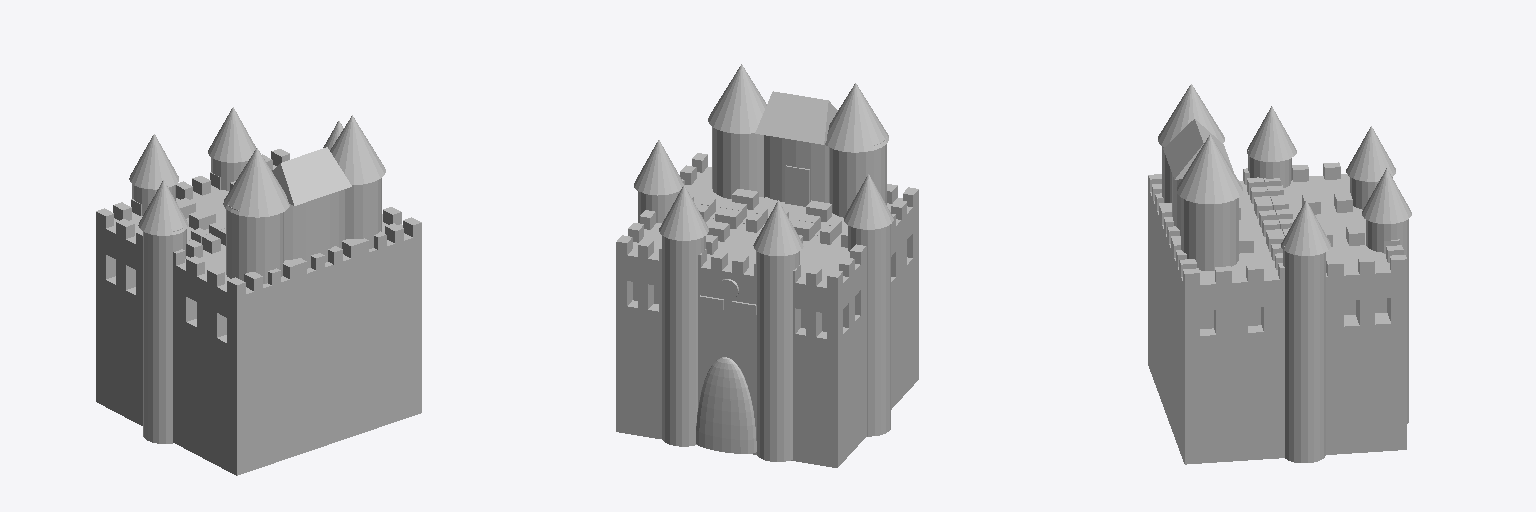
Rendered from castilloSorbete.obj.
3 renders of one model, left to right at view 1: azimuth 30°, elevation 25°; view 2: azimuth 150°, elevation 25°; view 3: azimuth 270°, elevation 25°, orthographic.
Parts seen in each view (by area): view 1: polySurface37_Mesh.018, polySurface29_Mesh.026, polySurface42_Mesh.013, polySurface36_Mesh.019, polySurface43_Mesh.012, polySurface28_Mesh.027, polySurface54_Mesh.001, polySurface26_Mesh.029, polySurface27_Mesh.028, polySurface53_Mesh.002, polySurface55_Mesh, polySurface32_Mesh.023 (+4 smaller); view 2: polySurface36_Mesh.019, polySurface40_Mesh.015, polySurface32_Mesh.023, polySurface50_Mesh.005, polySurface45_Mesh.010, polySurface37_Mesh.018, polySurface43_Mesh.012, polySurface34_Mesh.021, polySurface55_Mesh, polySurface54_Mesh.001, polySurface26_Mesh.029, polySurface28_Mesh.027 (+10 smaller); view 3: polySurface29_Mesh.026, polySurface40_Mesh.015, polySurface33_Mesh.022, polySurface42_Mesh.013, polySurface55_Mesh, polySurface37_Mesh.018, polySurface53_Mesh.002, polySurface36_Mesh.019, polySurface32_Mesh.023, polySurface26_Mesh.029, polySurface41_Mesh.014, polySurface49_Mesh.006 (+6 smaller).
Boxes of the visible parts, x1=… form: polySurface37_Mesh.018: x1=173, y1=228, x2=297, y2=475; polySurface29_Mesh.026: x1=353, y1=207, x2=421, y2=433; polySurface42_Mesh.013: x1=291, y1=239, x2=359, y2=454; polySurface36_Mesh.019: x1=96, y1=199, x2=225, y2=425; polySurface43_Mesh.012: x1=143, y1=228, x2=186, y2=443; polySurface28_Mesh.027: x1=226, y1=205, x2=283, y2=283; polySurface54_Mesh.001: x1=284, y1=189, x2=344, y2=268; polySurface26_Mesh.029: x1=272, y1=147, x2=351, y2=205; polySurface27_Mesh.028: x1=223, y1=148, x2=289, y2=217; polySurface53_Mesh.002: x1=330, y1=115, x2=385, y2=184; polySurface55_Mesh: x1=345, y1=178, x2=381, y2=248; polySurface32_Mesh.023: x1=176, y1=172, x2=235, y2=228; polySurface36_Mesh.019: x1=791, y1=221, x2=866, y2=467; polySurface40_Mesh.015: x1=616, y1=204, x2=730, y2=438; polySurface32_Mesh.023: x1=698, y1=209, x2=803, y2=454; polySurface50_Mesh.005: x1=756, y1=251, x2=799, y2=461; polySurface45_Mesh.010: x1=662, y1=236, x2=705, y2=446; polySurface37_Mesh.018: x1=805, y1=184, x2=918, y2=409; polySurface43_Mesh.012: x1=848, y1=224, x2=890, y2=436; polySurface34_Mesh.021: x1=696, y1=357, x2=756, y2=453; polySurface55_Mesh: x1=712, y1=127, x2=763, y2=198; polySurface54_Mesh.001: x1=764, y1=135, x2=828, y2=202; polySurface26_Mesh.029: x1=755, y1=91, x2=837, y2=144; polySurface28_Mesh.027: x1=829, y1=137, x2=886, y2=217; polySurface29_Mesh.026: x1=1172, y1=234, x2=1284, y2=464; polySurface40_Mesh.015: x1=1284, y1=228, x2=1406, y2=454; polySurface33_Mesh.022: x1=1283, y1=245, x2=1325, y2=462; polySurface42_Mesh.013: x1=1160, y1=201, x2=1282, y2=428; polySurface55_Mesh: x1=1181, y1=198, x2=1238, y2=270; polySurface37_Mesh.018: x1=1148, y1=168, x2=1270, y2=395; polySurface53_Mesh.002: x1=1177, y1=135, x2=1242, y2=203; polySurface36_Mesh.019: x1=1264, y1=162, x2=1353, y2=210; polySurface32_Mesh.023: x1=1272, y1=196, x2=1365, y2=241; polySurface26_Mesh.029: x1=1163, y1=119, x2=1233, y2=179; polySurface41_Mesh.014: x1=1362, y1=168, x2=1411, y2=223; polySurface49_Mesh.006: x1=1281, y1=200, x2=1330, y2=255.
Size of the model in its own units: 2.01 by 2.47 by 1.94.